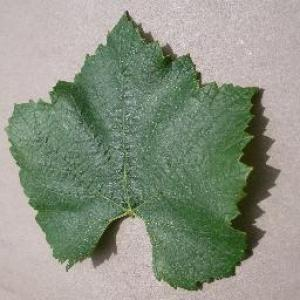Folha: (4, 10, 262, 290)
